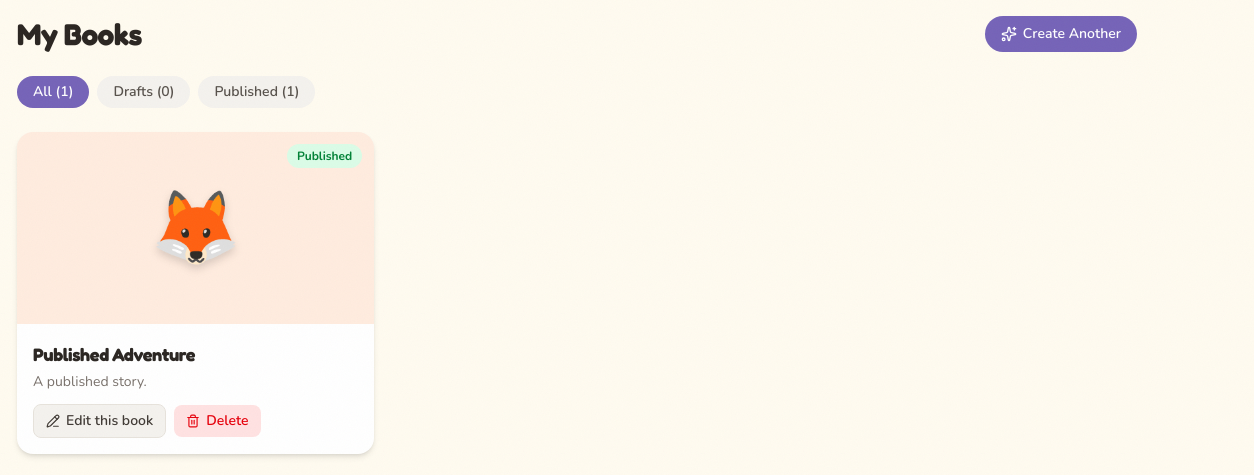
MyBooks — Edit this book (withdraw to edit) › explains a withdrawal that never reached the server
Expected: the text "Published" is shown, top-left (287, 144), bottom-right (362, 168)
Click the button "Edit this book".
click(100, 421)  # box top-left (33, 404), bottom-right (166, 438)
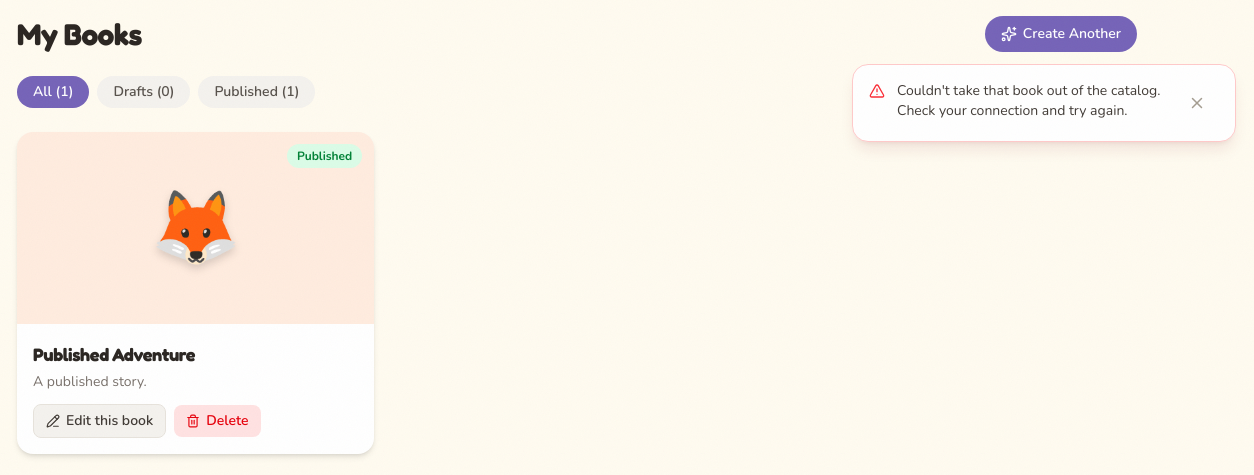
Expected: the text "Published" is shown, top-left (287, 144), bottom-right (362, 168)
Expected: the text "Check your connection and try again" is shown, top-left (897, 81), bottom-right (1160, 120)
